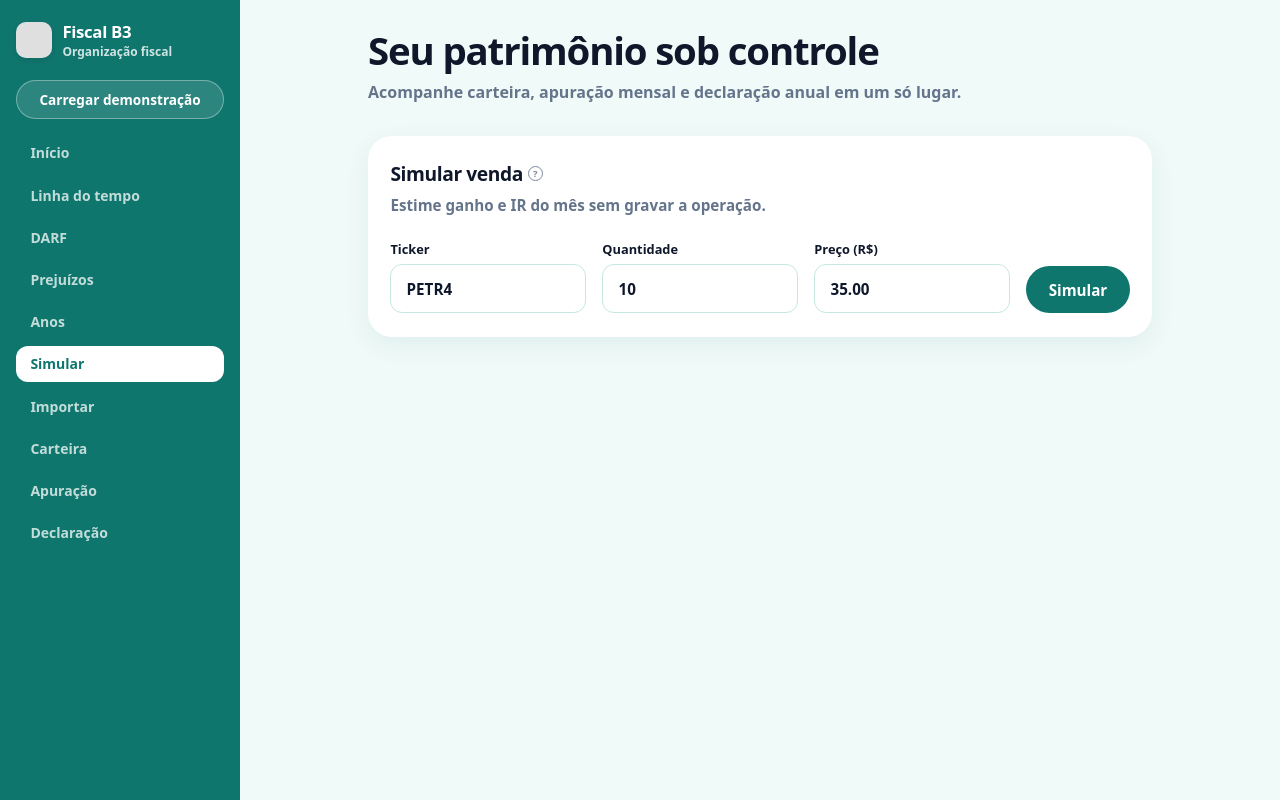
Test: Web UI › simulates a sale without persisting
Click the button "Simular" below "Preço (R$)" at (1078, 290), box [1026, 266, 1130, 313]
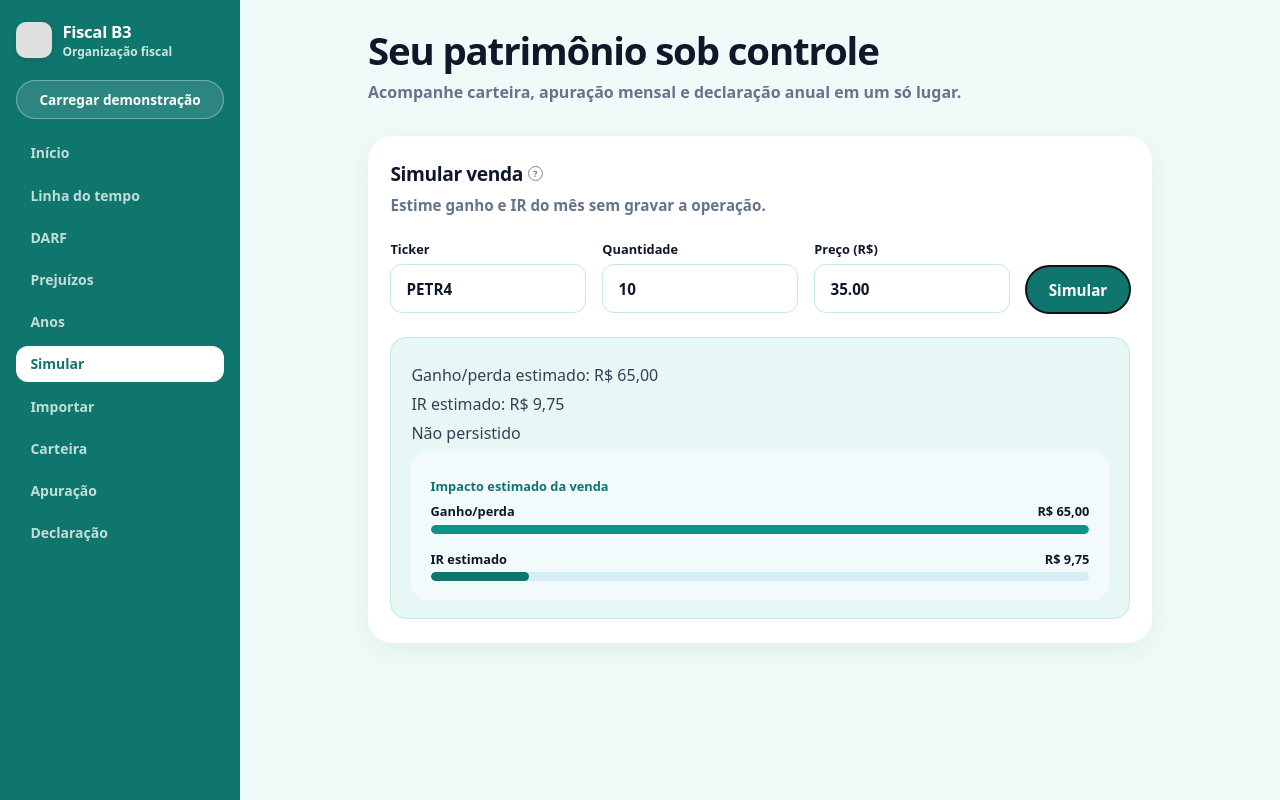
Now the element with test id "simulate-result" is shown, box [390, 337, 1130, 619]
Now the text "Não persistido" is shown, box [411, 422, 521, 444]
